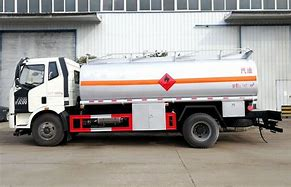oil truck: (7, 42, 282, 151)
